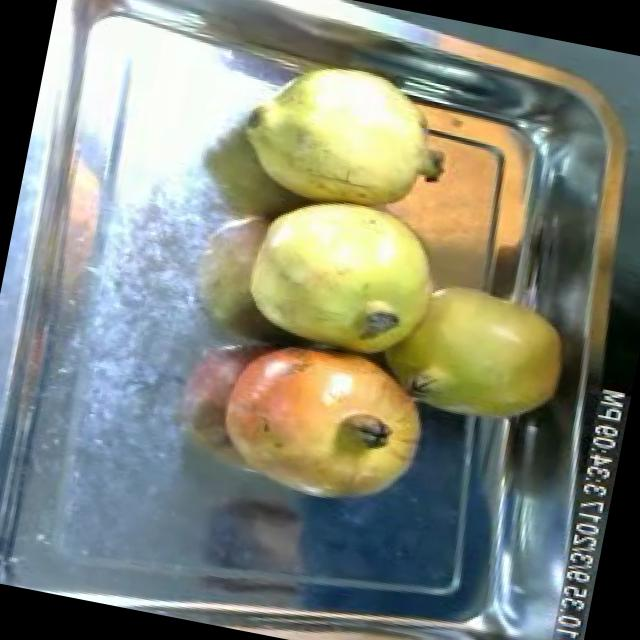fruit: (189, 318, 446, 530), (222, 42, 468, 231), (224, 175, 456, 373), (386, 269, 582, 439)
